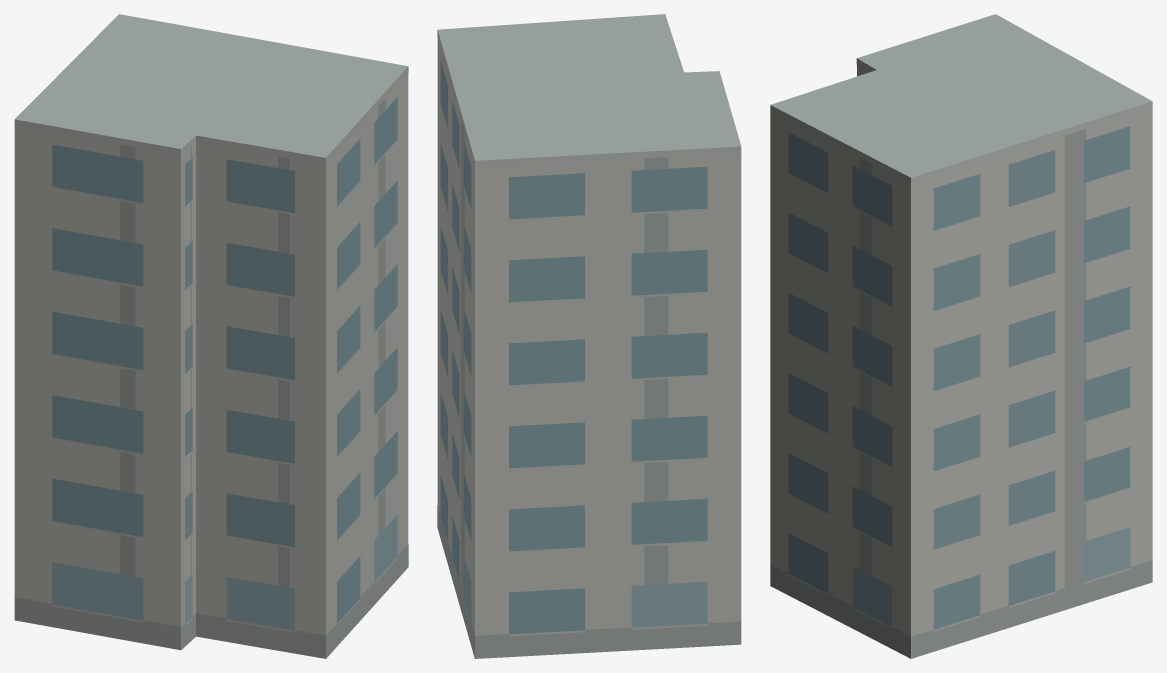
File: survey-upis-32822426.glb
3 views of the same model, side by side, from view 1: azimuth 30°, elevation 25°; view 2: azimuth 150°, elevation 25°; view 3: azimuth 270°, elevation 25° (orthographic). The views are drawn at different scales.
Visible parts, largest first — view 1: survey-upis-32822426.tmp; view 2: survey-upis-32822426.tmp; view 3: survey-upis-32822426.tmp.
Part boxes in pixels (x1,y1,x2,y2): survey-upis-32822426.tmp: [14, 14, 408, 658]; survey-upis-32822426.tmp: [437, 14, 741, 658]; survey-upis-32822426.tmp: [770, 14, 1152, 658].
Size of the model in its own units: 13.37 by 18.3 by 13.19.
